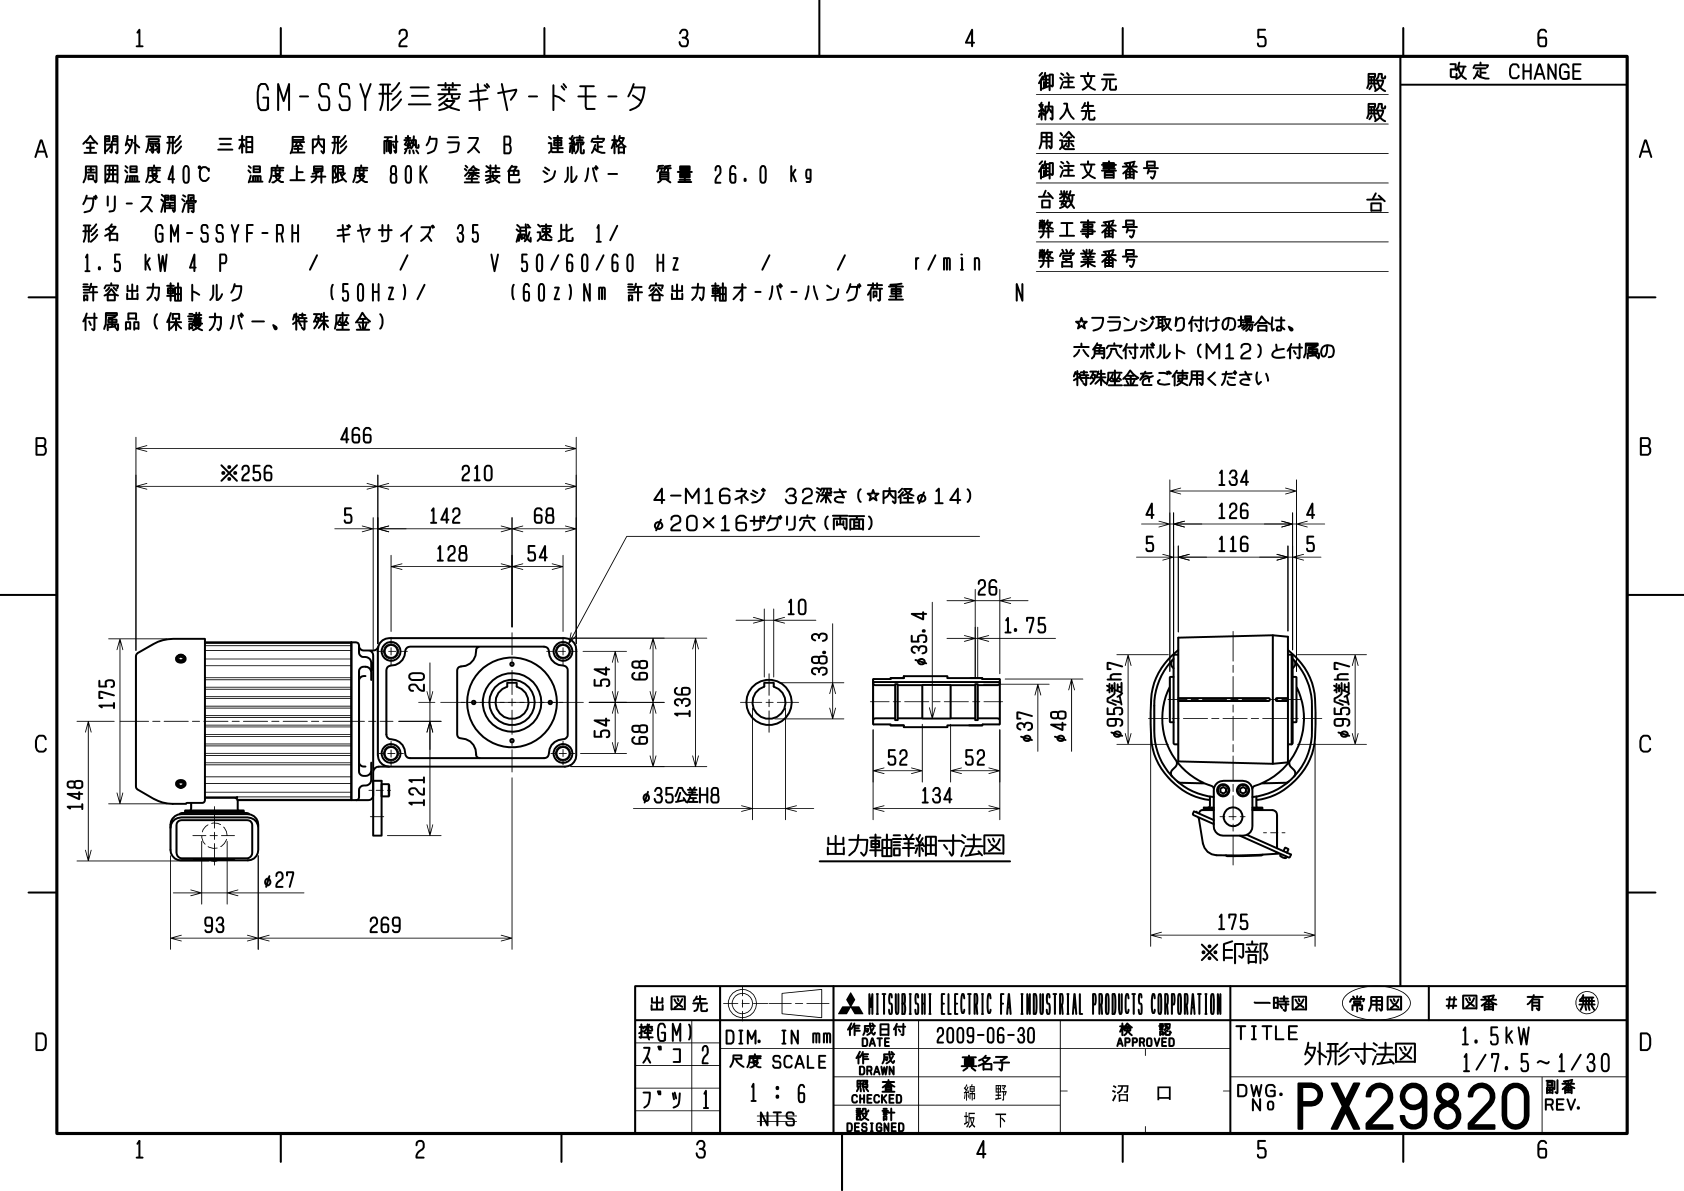GM_SSY_屋内_三相: (58, 375, 1379, 973)
